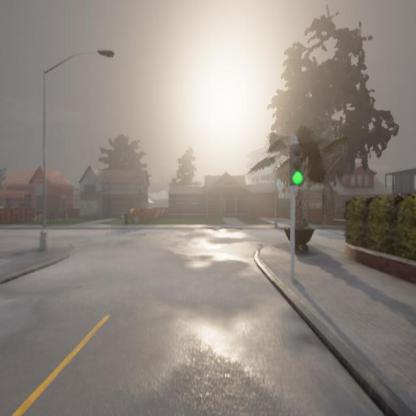traffic_light_green: (289, 140, 306, 187)
